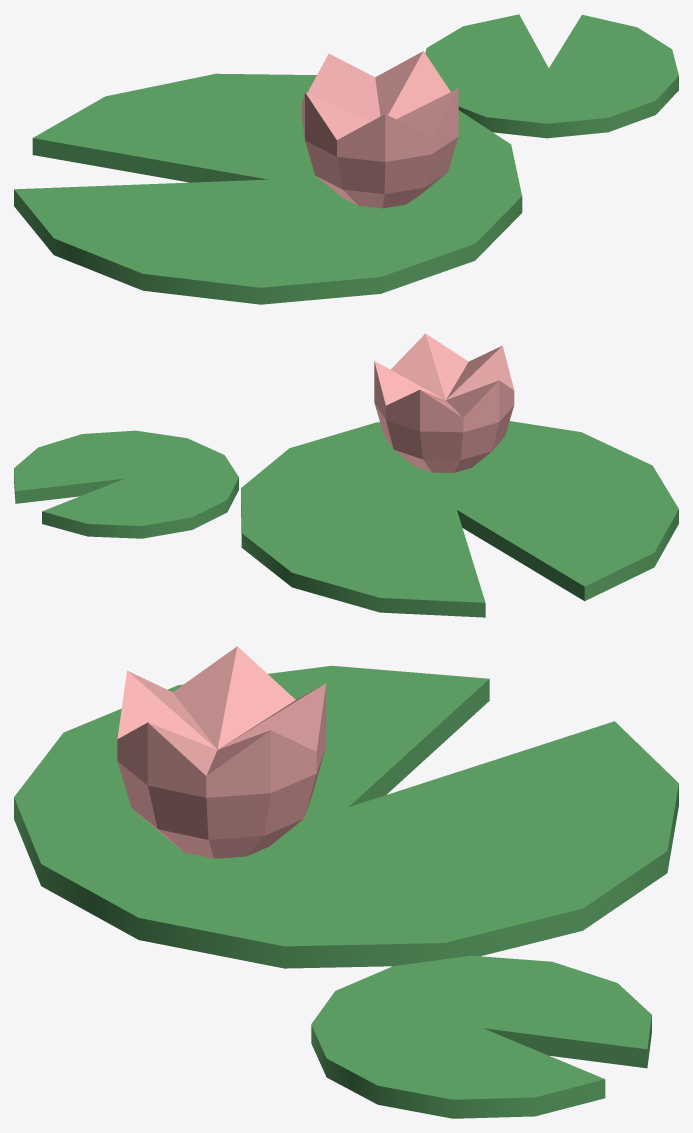
Rendered from LilyPad3.fbx.
3 views of the same model, one above another, from view 1: azimuth 30°, elevation 25°; view 2: azimuth 150°, elevation 25°; view 3: azimuth 270°, elevation 25° (orthographic). The views are drawn at different scales.
Visible parts, largest first — view 1: pCylinder6; view 2: pCylinder6; view 3: pCylinder6.
Boxes of the visible parts, left/top/right/bottom form: pCylinder6: left=14, top=14, right=678, bottom=304; pCylinder6: left=14, top=333, right=678, bottom=617; pCylinder6: left=14, top=646, right=678, bottom=1118.
Size of the model in its own units: 3.68 by 0.7493 by 2.44.
